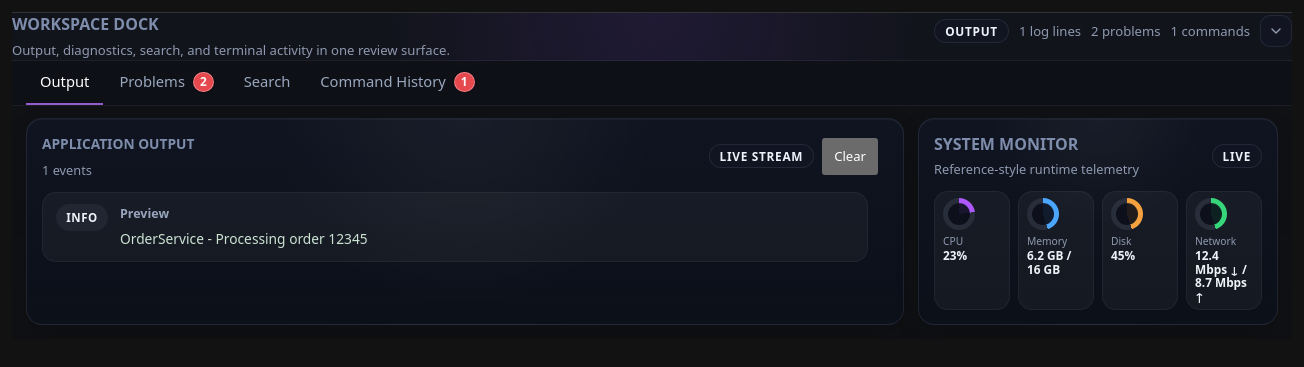
Test: BottomDockComponent › switches to the problems panel
Click the button with class "dock-tab" showing "Problems 2" at (167, 83), box [105,61,228,105]
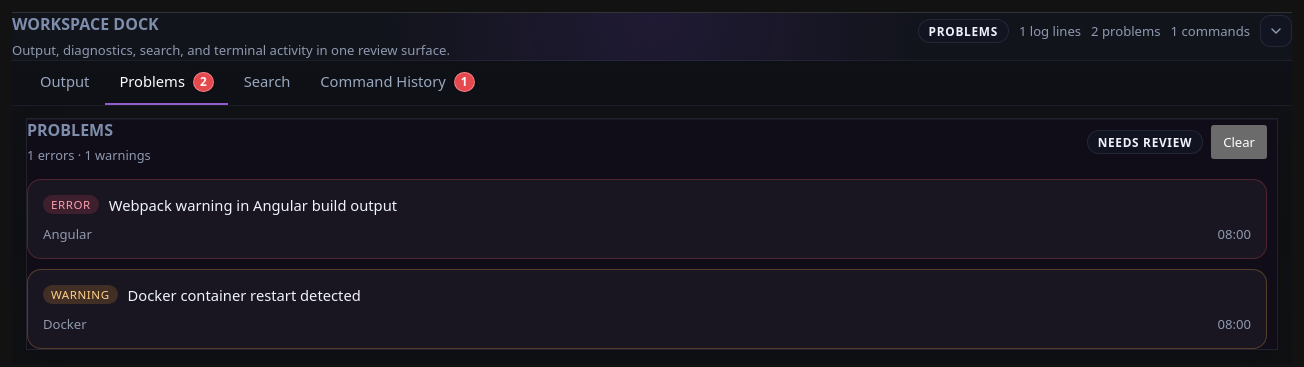
Expected: the text "Webpack warning in Angular build output" is shown, [109,195,397,215]
Expected: the element with class "monitor-panel" is gone
